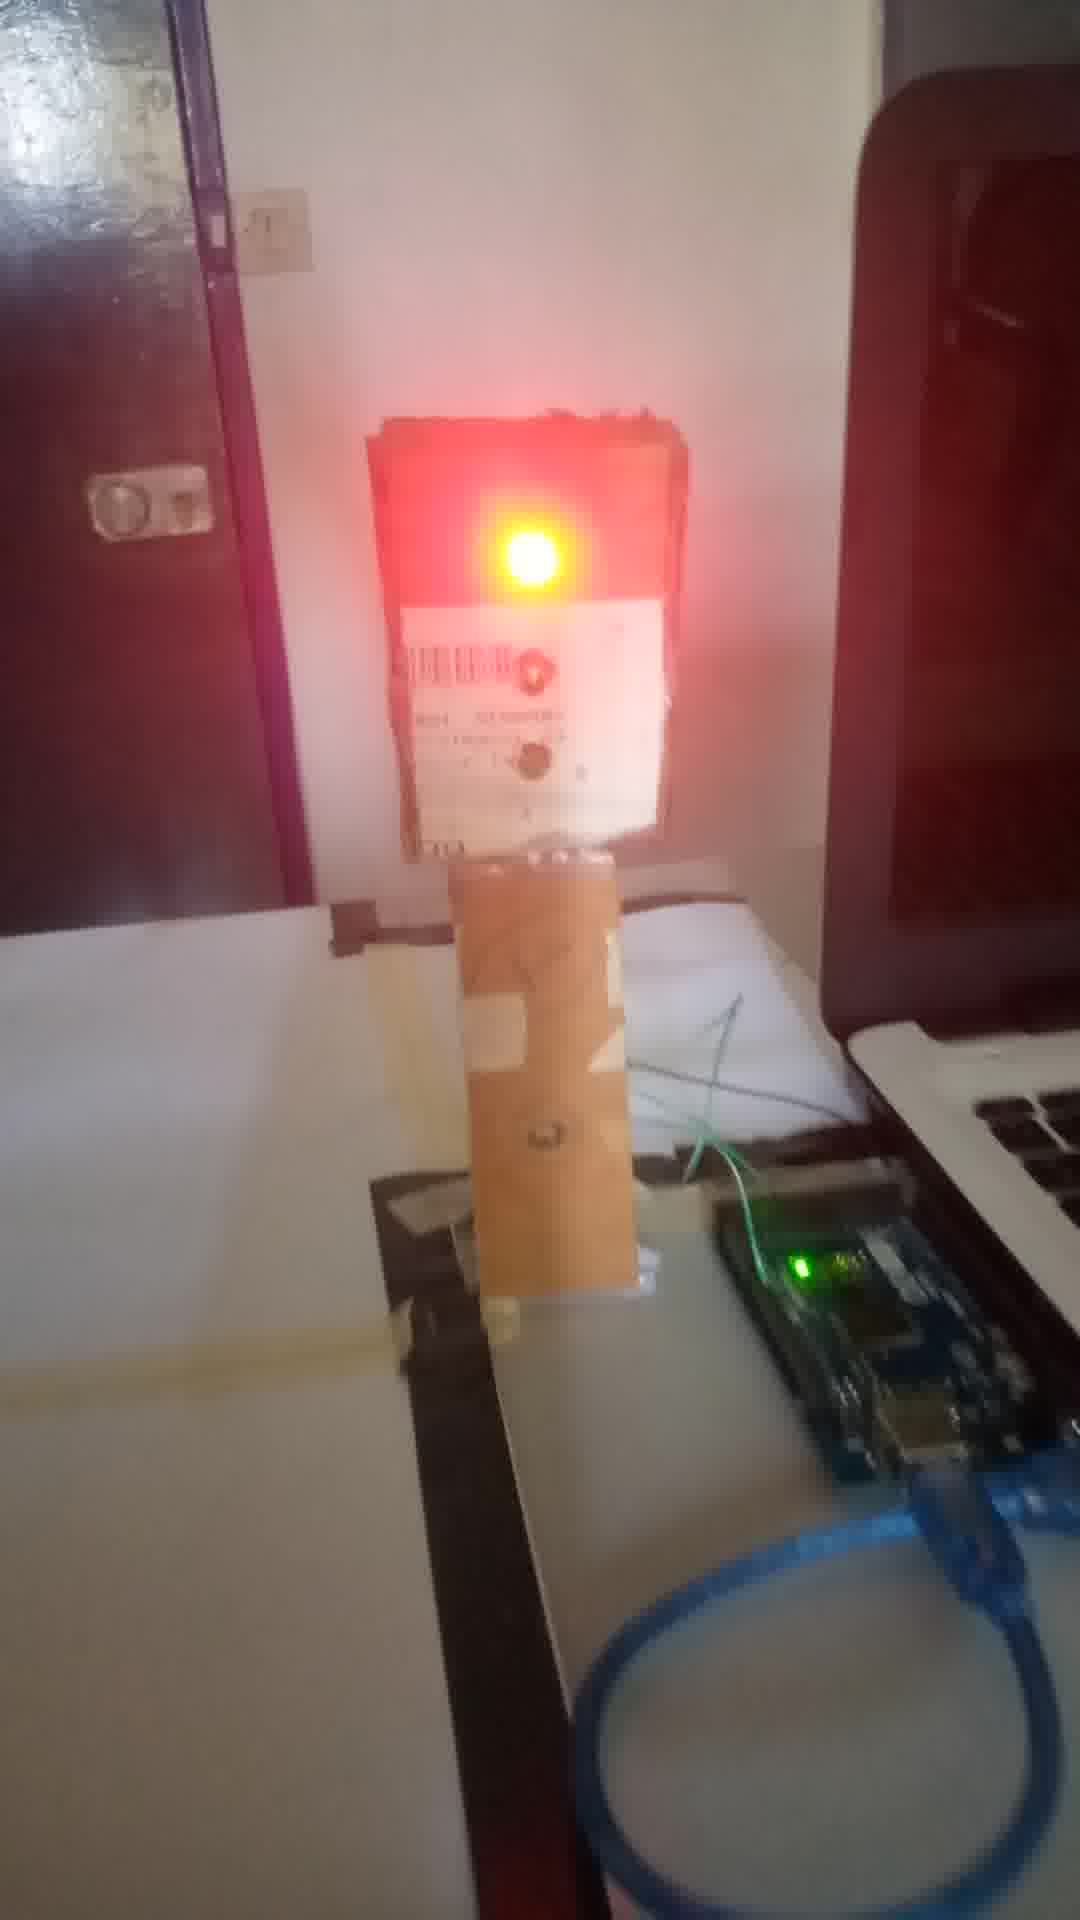red: (375, 423, 687, 849)
